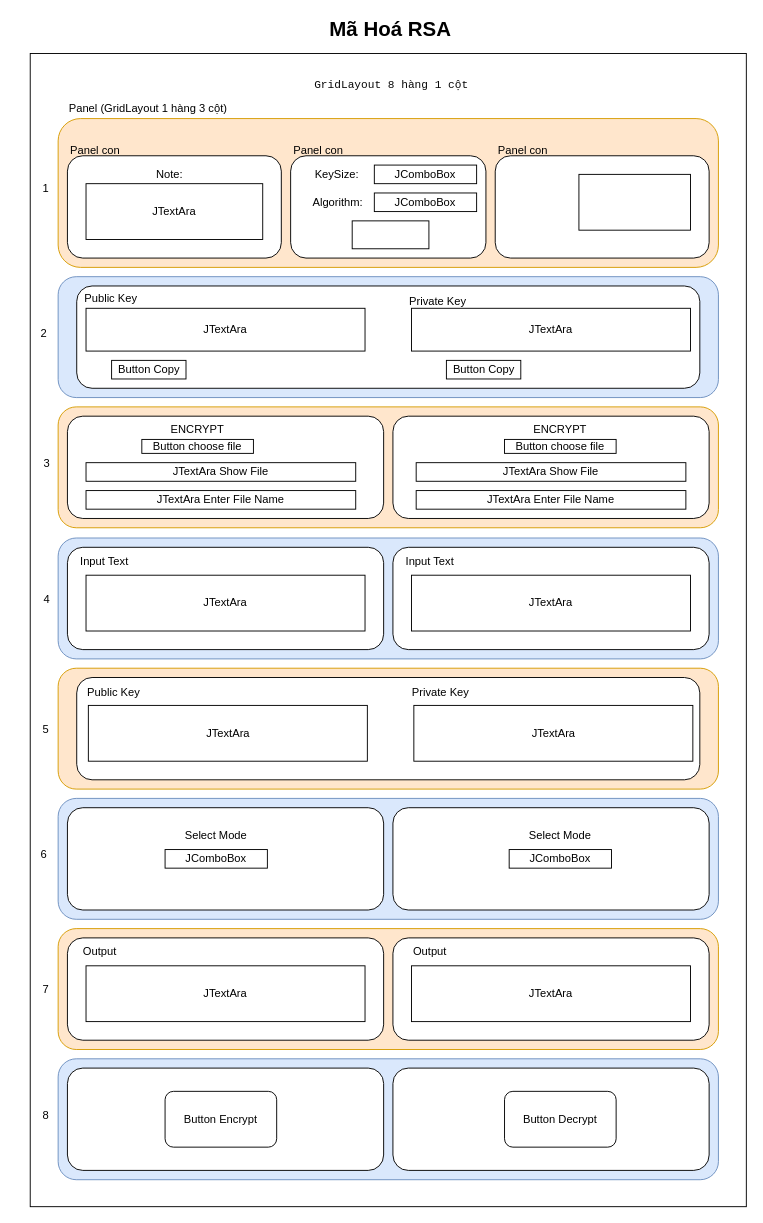
Some shapes in this 763 by 1223 pixel diagram are drawn without their labels. The box of each missing label's shape, as (x1, y1, x2, y2) in pixels:
Button CreateKey: (351, 220, 429, 249)
Button Reset: (578, 173, 691, 230)
